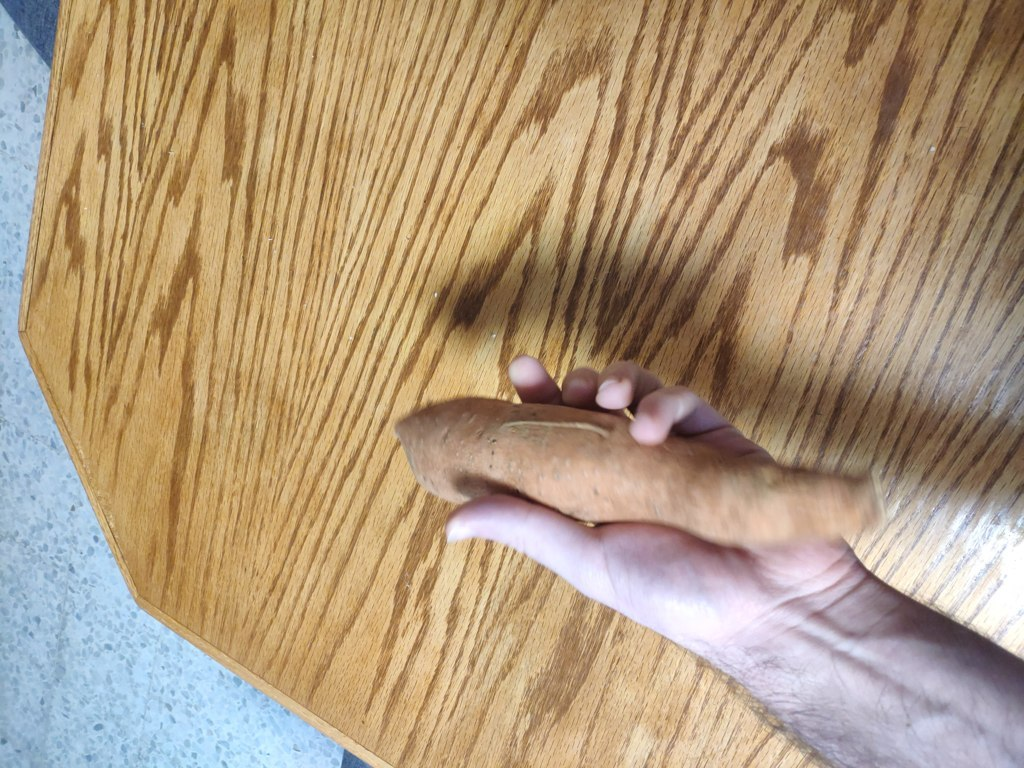Sweet Potato: (385, 388, 921, 587)
